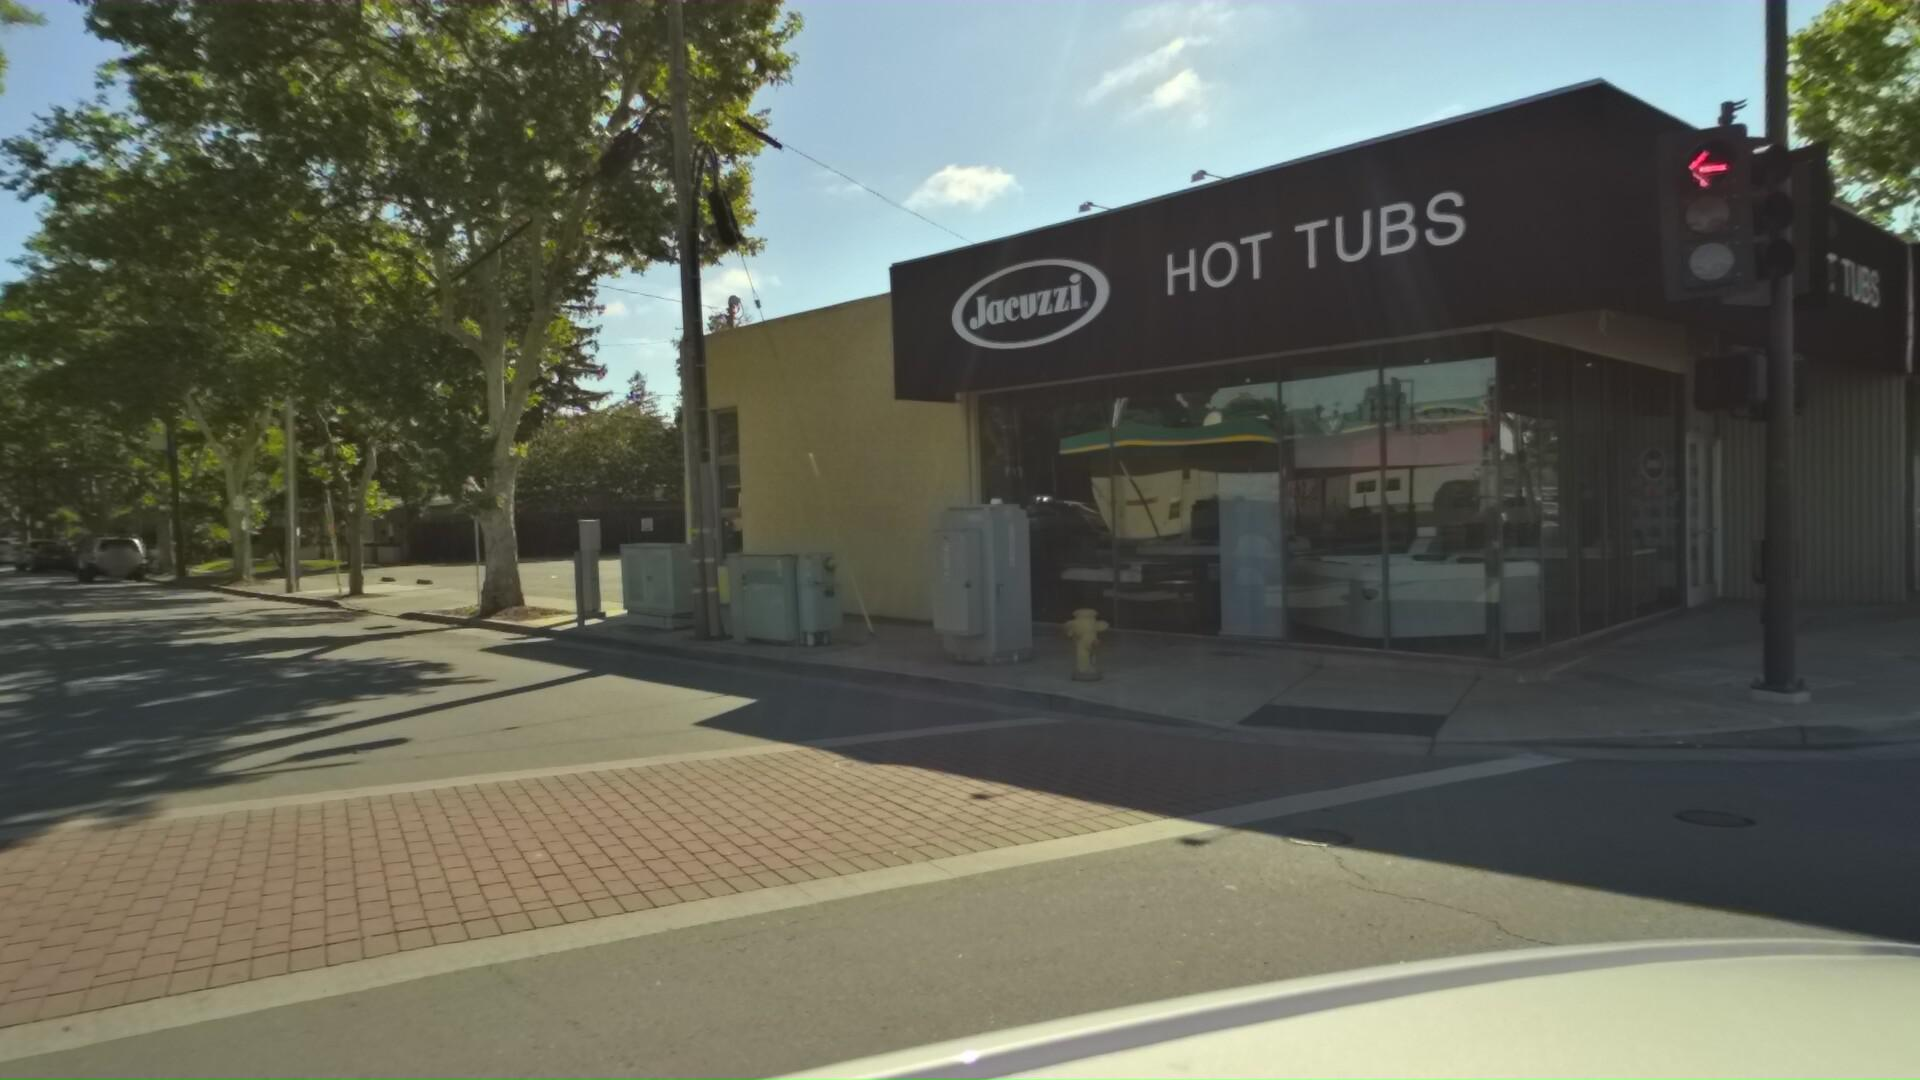car: (83, 526, 169, 585), (24, 534, 80, 570), (36, 541, 94, 575), (0, 541, 45, 567)
